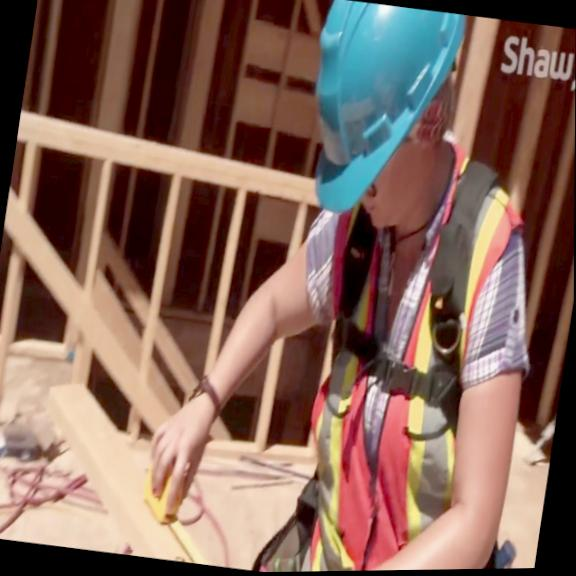safety_vest: (284, 119, 547, 572)
